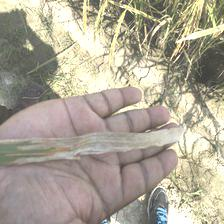2 BacterialBlight: (51, 125, 191, 159)
